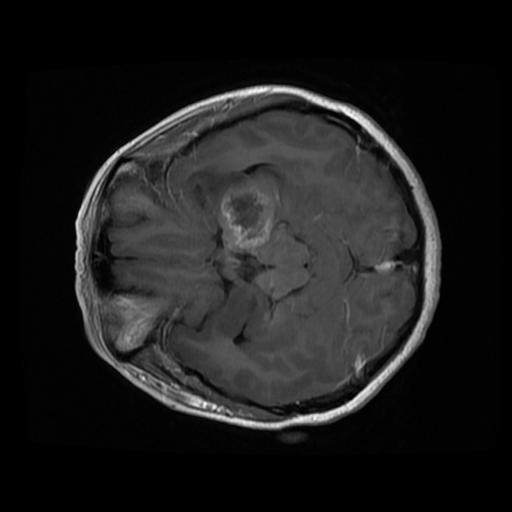glioma: (220, 167, 285, 251)
